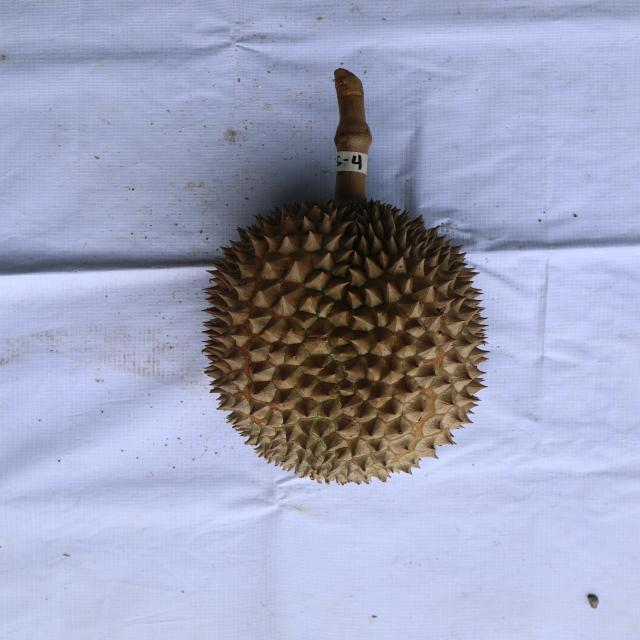mature: (203, 198, 489, 485)
